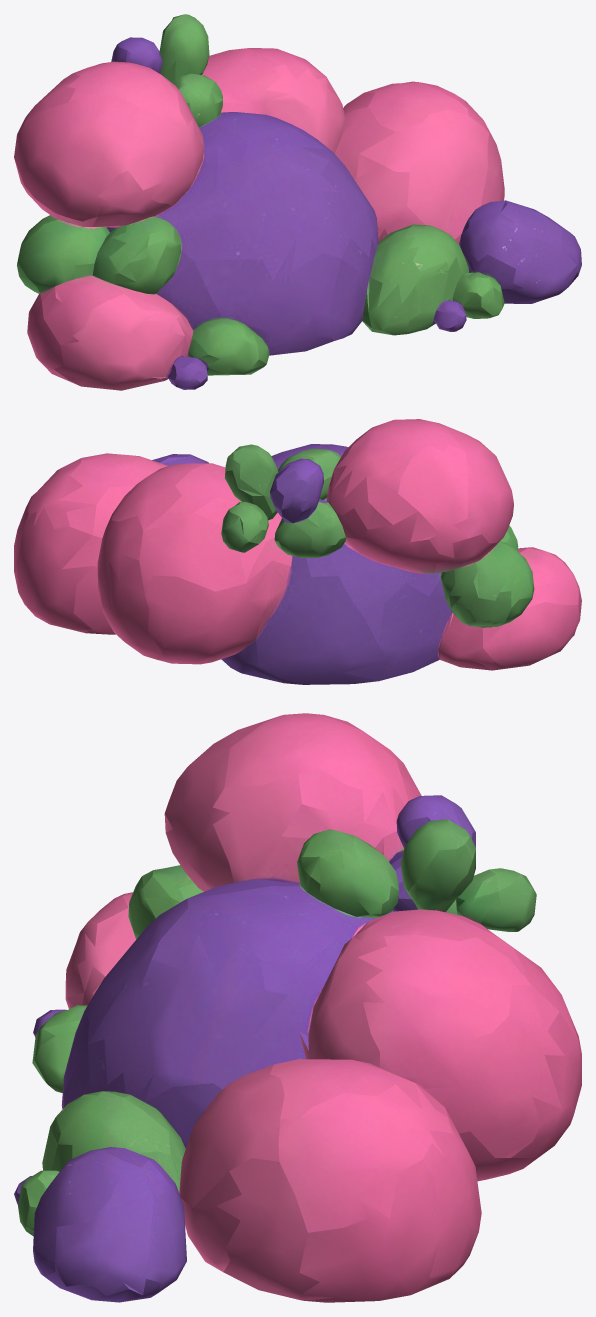
Rendered from dream-pebbles.glb.
The picture shows the model from 3 angles, top to bottom: view 1: azimuth 30°, elevation 25°; view 2: azimuth 150°, elevation 25°; view 3: azimuth 270°, elevation 25°; orthographic projection. The views are drawn at different scales.
Visible parts, largest first — view 1: output_unwrapped; view 2: output_unwrapped; view 3: output_unwrapped.
Part boxes in pixels (x1=…): output_unwrapped: x1=14, y1=14, x2=581, y2=390; output_unwrapped: x1=14, y1=419, x2=581, y2=684; output_unwrapped: x1=14, y1=713, x2=581, y2=1302.
Size of the model in its own units: 1.9 by 0.8625 by 1.36.
Materials: 1 (1 with a texture image).
